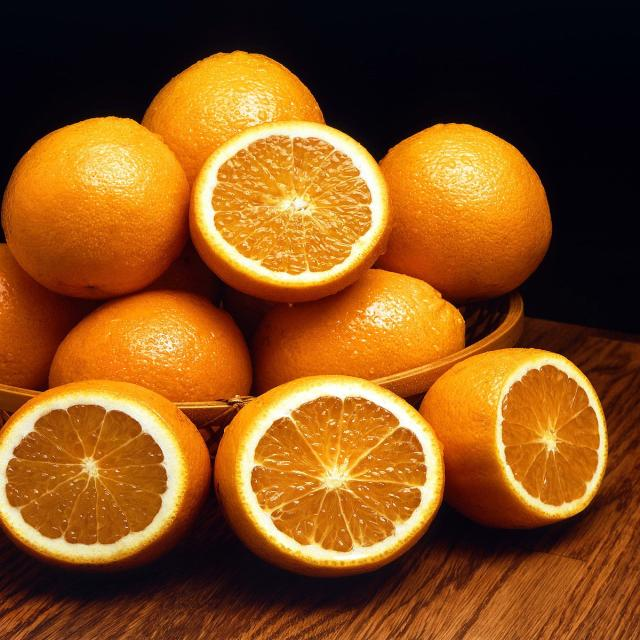Orange: (209, 370, 449, 577), (1, 372, 217, 588), (421, 348, 619, 546), (196, 114, 395, 303), (373, 109, 555, 311), (17, 115, 190, 295)
